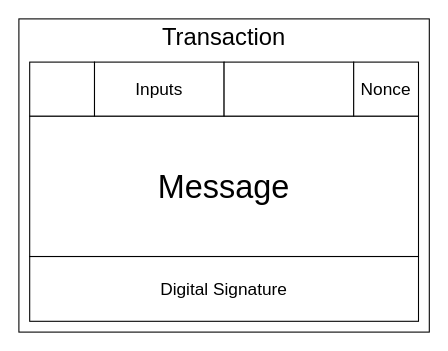
The diagram is 448 pixels wide and 351 high, and some of its shapes have lost their labels. Each missing label, with the centre of its shape:
"Outputs" belongs at (x=288, y=88).
"Sender Wallet" belongs at (x=61, y=88).
